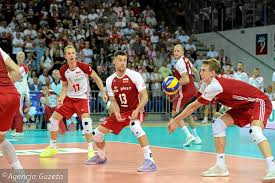ball: (160, 76, 180, 95)
